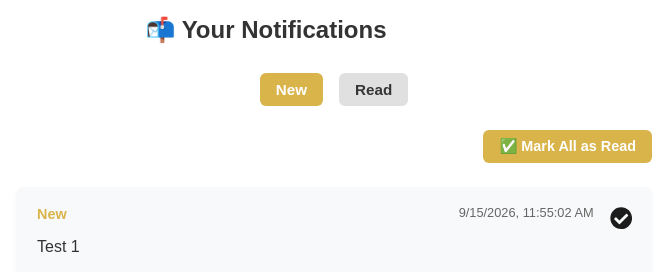
Scenario: NotificationPage Tests › renders notifications when fetched
The width and height of the screenshot is (669, 272).
Expected: the text "Test 1" is shown, [37,238,80,255]
// Click the "Read" tab to show read notifications
What coordinates should you click on to do the following:
click the button "Read"
I would click on:
 (374, 90)
Its box is [339,73,408,106].
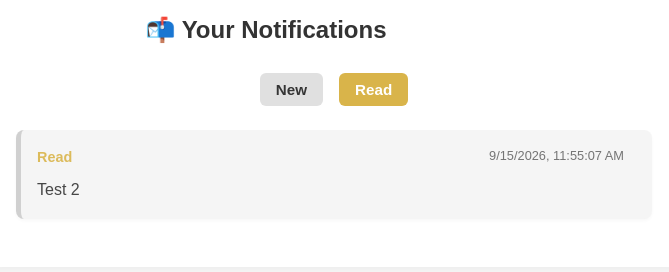
Now the text "Test 2" is shown, box [37,181,80,198]
